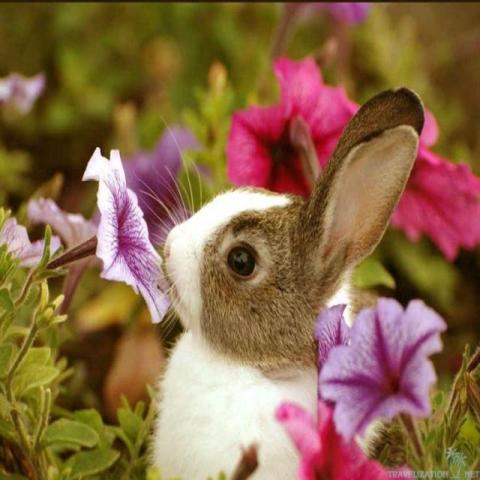small_animal: (133, 84, 428, 479)
